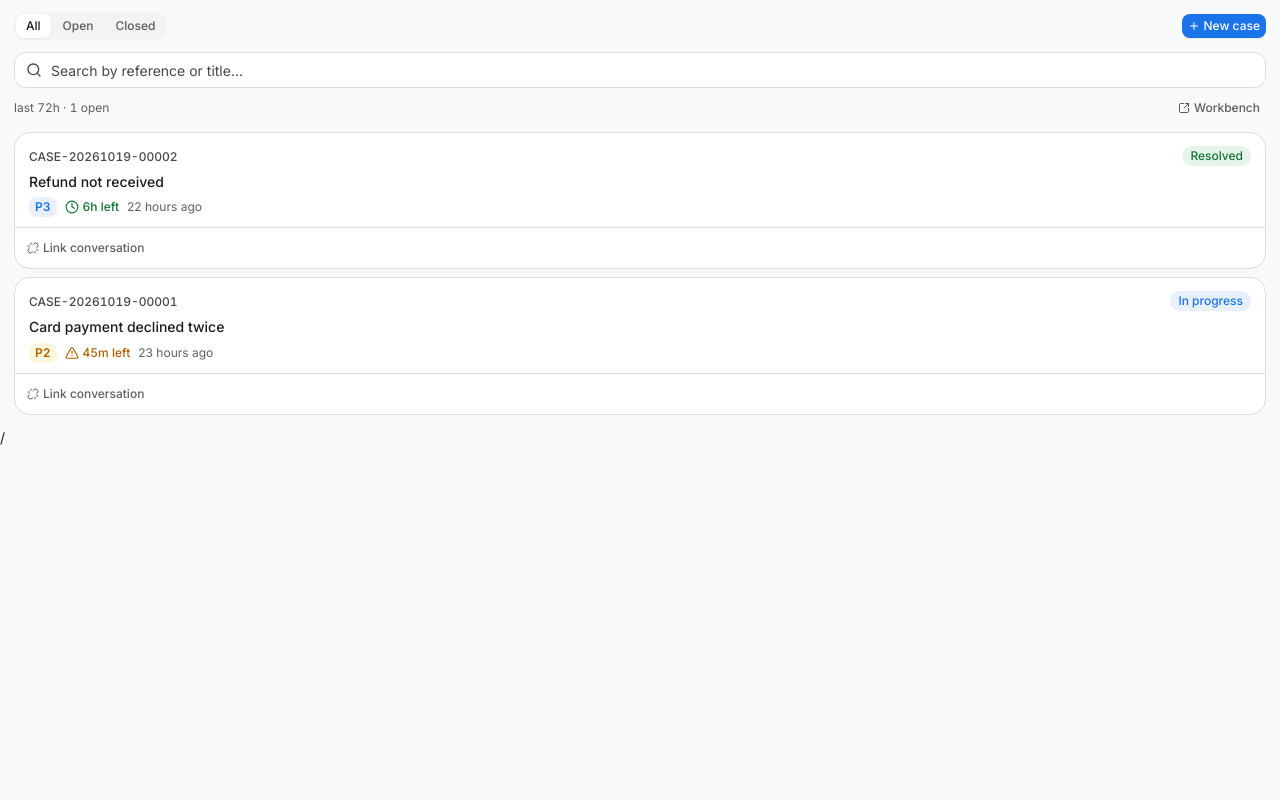
Test: conversation Cases tab › shows the case history with comments, and new links appear in it
Click the text "Card payment declined twice" at (127, 327), box [29,318,224,335]
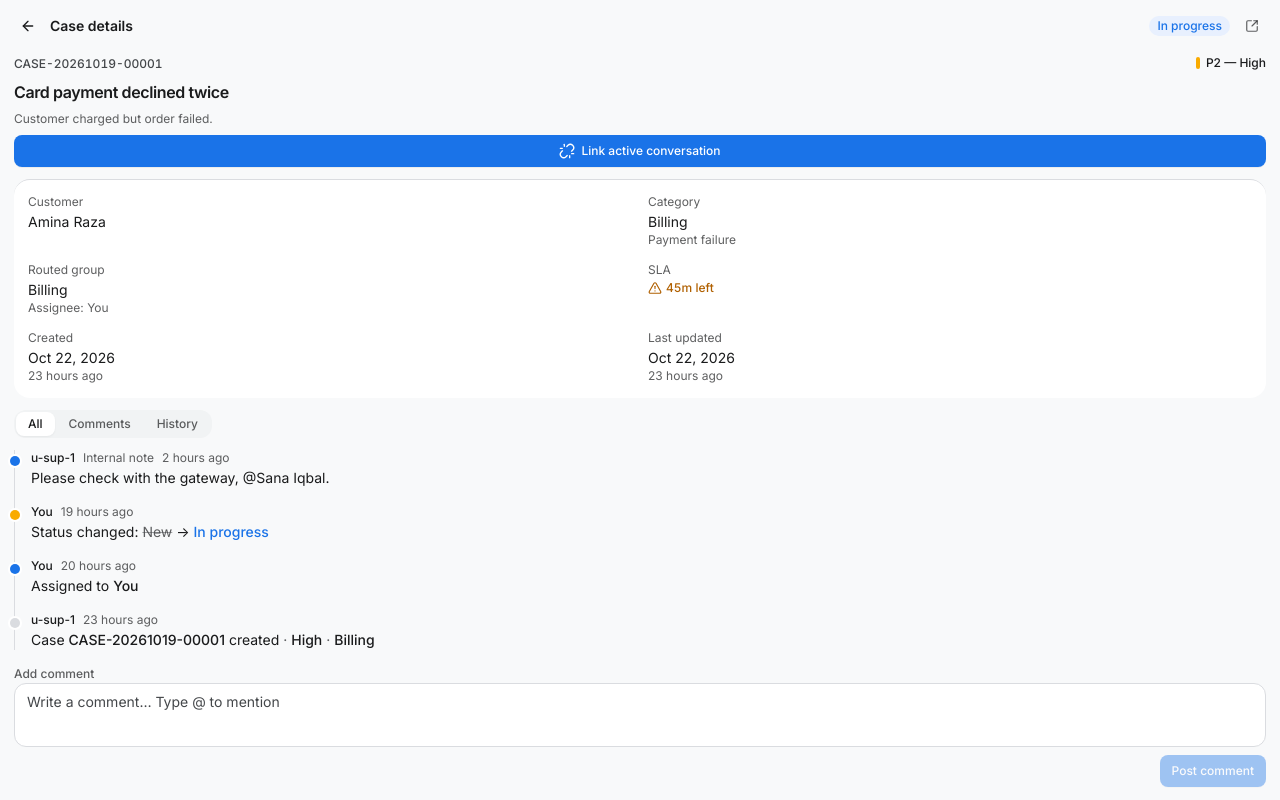
Click the tab "History" at (177, 424), box [145,412,210,436]
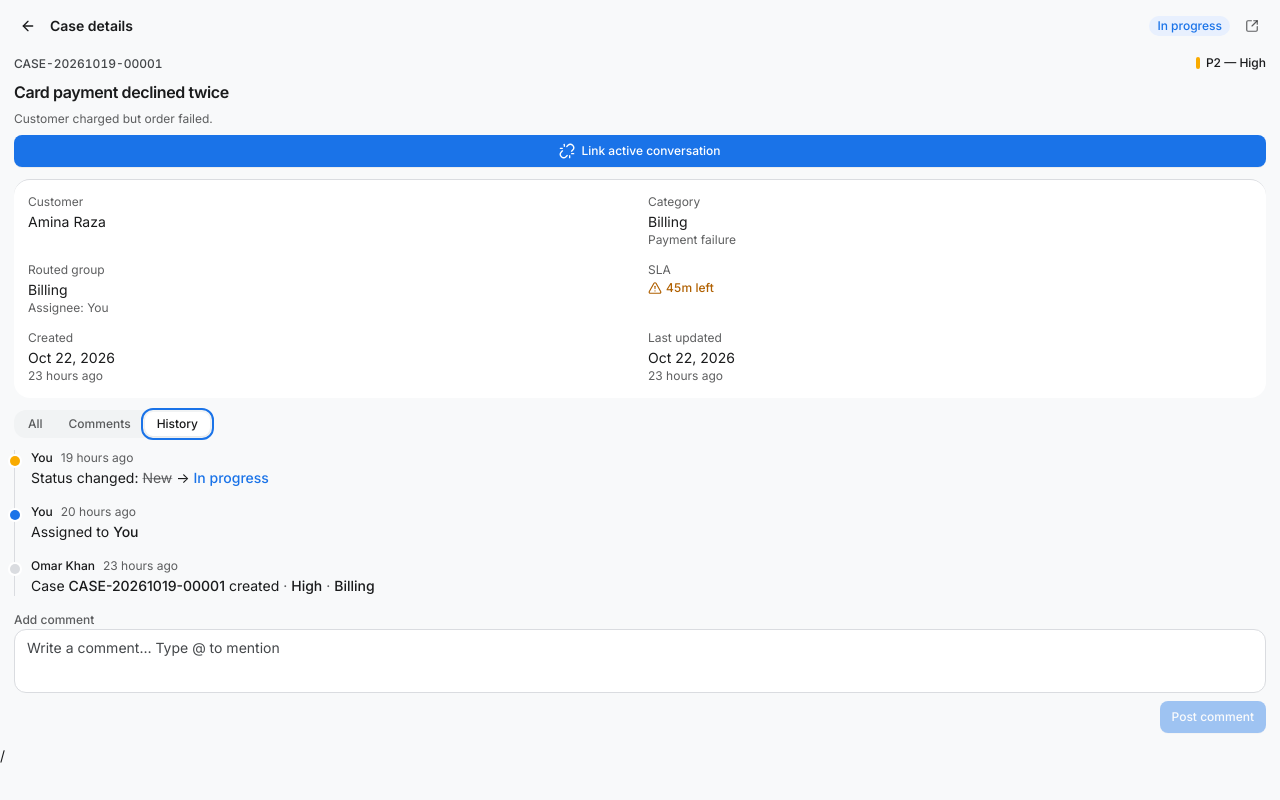
Expected: the text "Status changed:" is shown, [31,469,142,486]
Expected: the text "CASE-20261019-00001" below "Omar Khan" is shown, [69,577,225,594]
Expected: the text "Please check with the gateway, @Sana Iqbal." is gone
Click the button "Link active conversation" at (640, 151), box [14,135,1266,167]
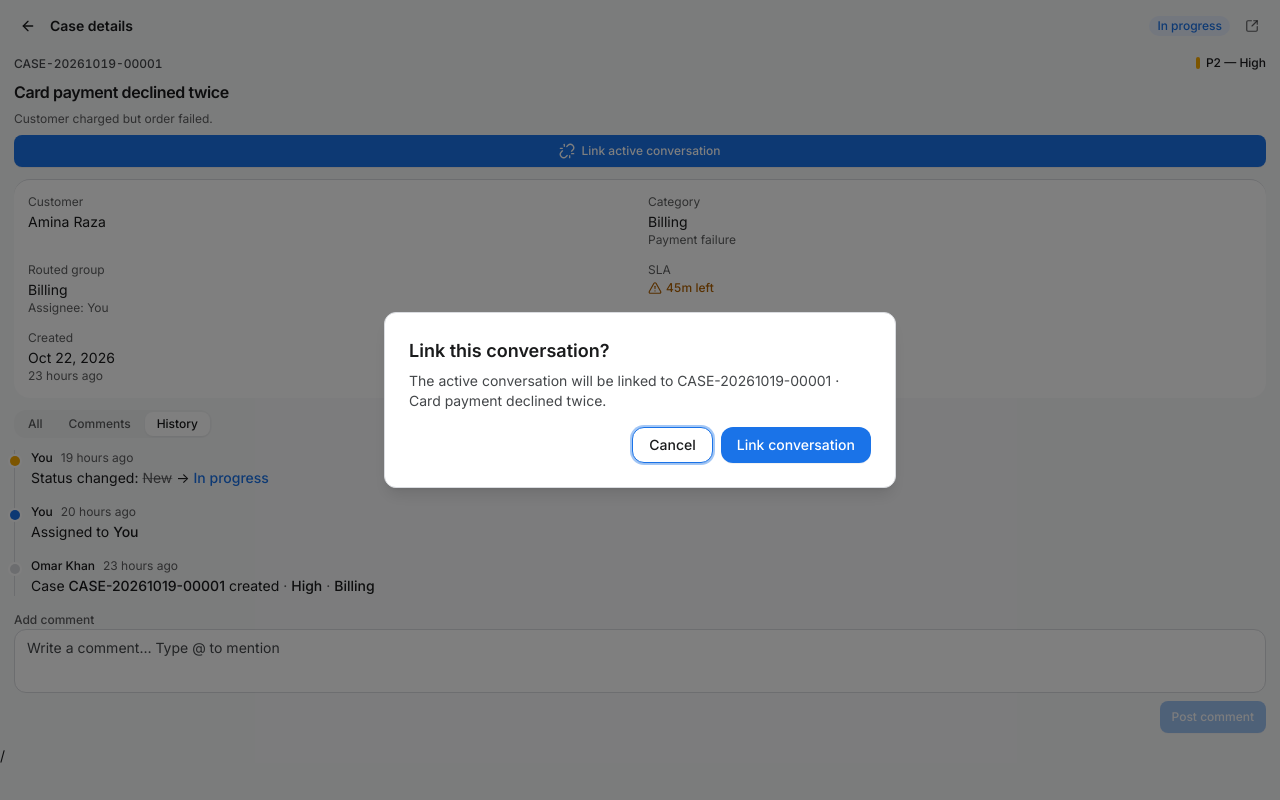
Click the button "Link conversation" at (796, 445), box [721,427,871,463]
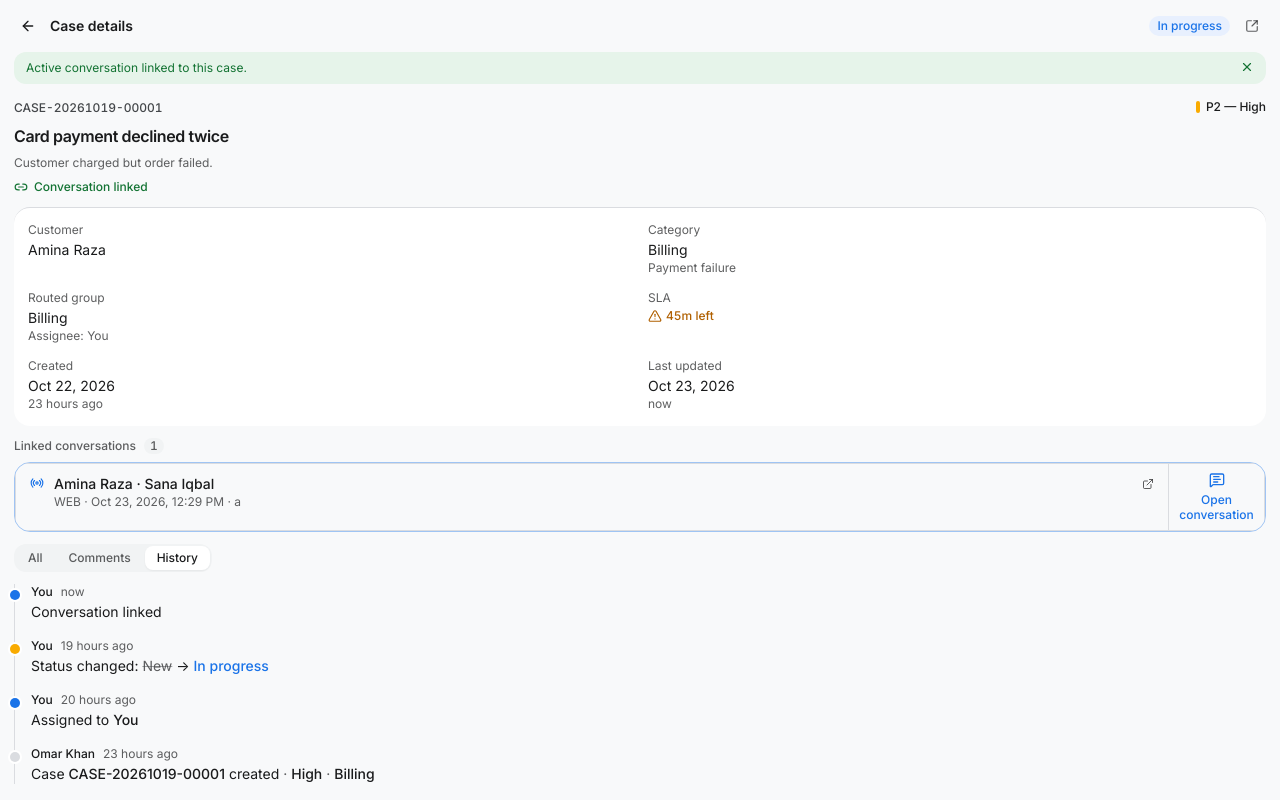
Expected: the text "Conversation linked" is shown, [31,603,162,620]
